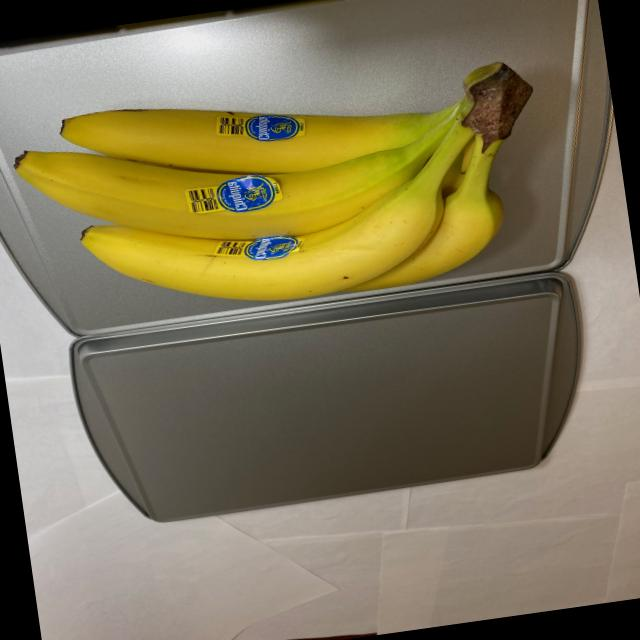banana: (0, 35, 561, 339)
